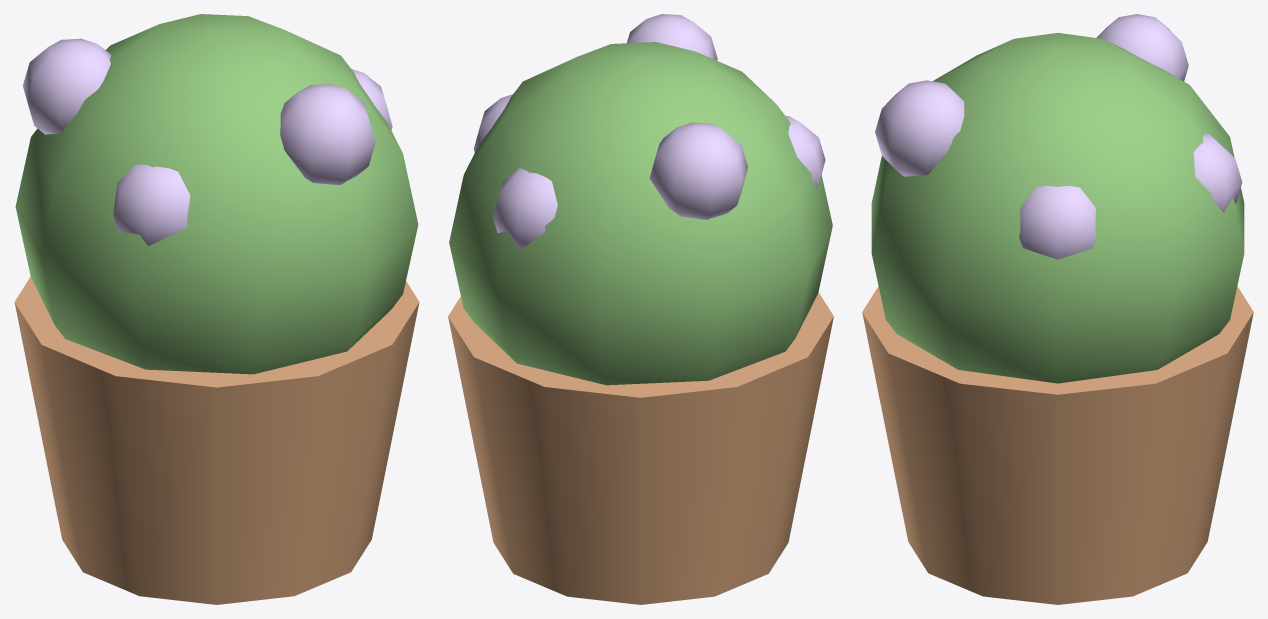
Rendered from pot2.glb.
3 renders of one model, left to right at view 1: azimuth 30°, elevation 25°; view 2: azimuth 150°, elevation 25°; view 3: azimuth 270°, elevation 25°, orthographic. The views are drawn at different scales.
Parts seen in each view (by area): view 1: pot2; view 2: pot2; view 3: pot2.
Part boxes in pixels (bbox=[...]): pot2: bbox=[14, 14, 419, 604]; pot2: bbox=[448, 14, 833, 604]; pot2: bbox=[862, 14, 1253, 604].
Bounding box in the file's own units: 0.34 × 0.47 × 0.34.
